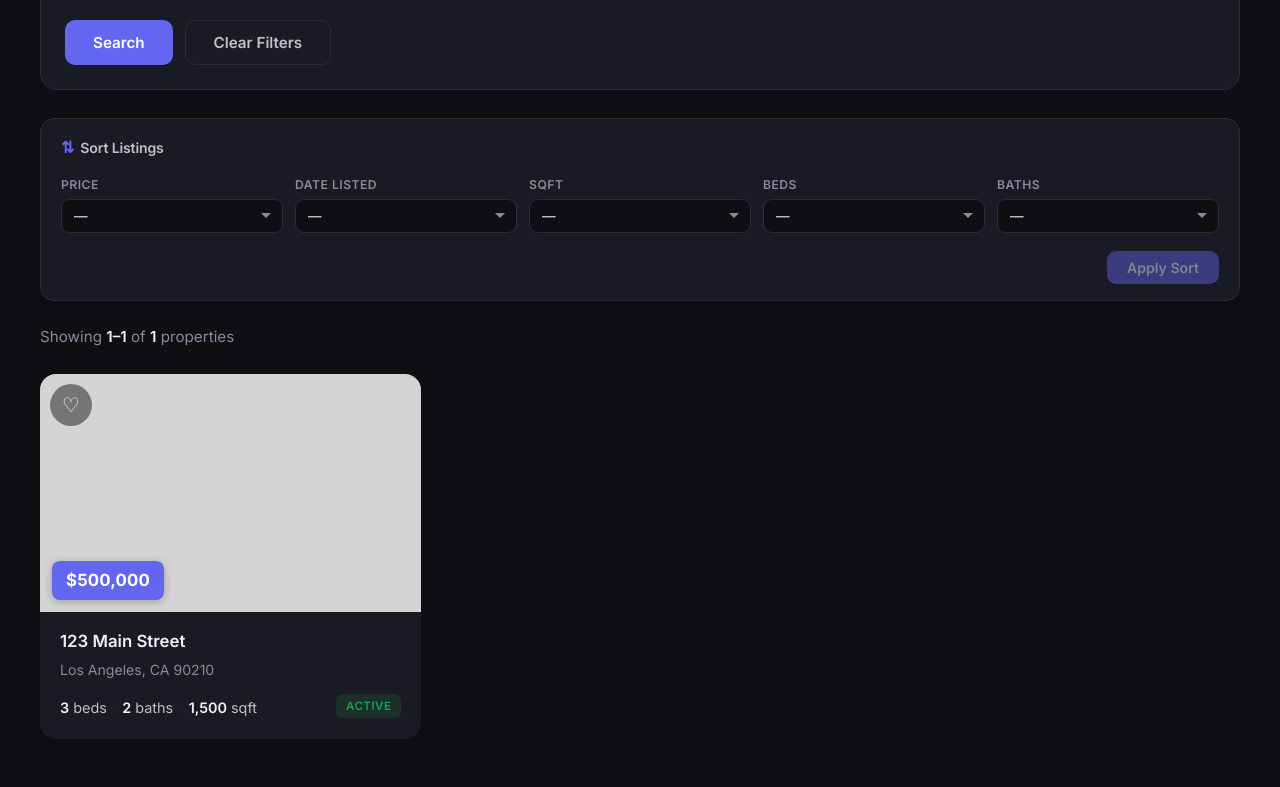
Test: Heart Favorite Component Across Pages › ListingsPage › renders favorite heart button on property cards and updates favorite state on click
(page scrolled)
Click the button named "add to favorites" at (71, 405), box [50,384,92,426]
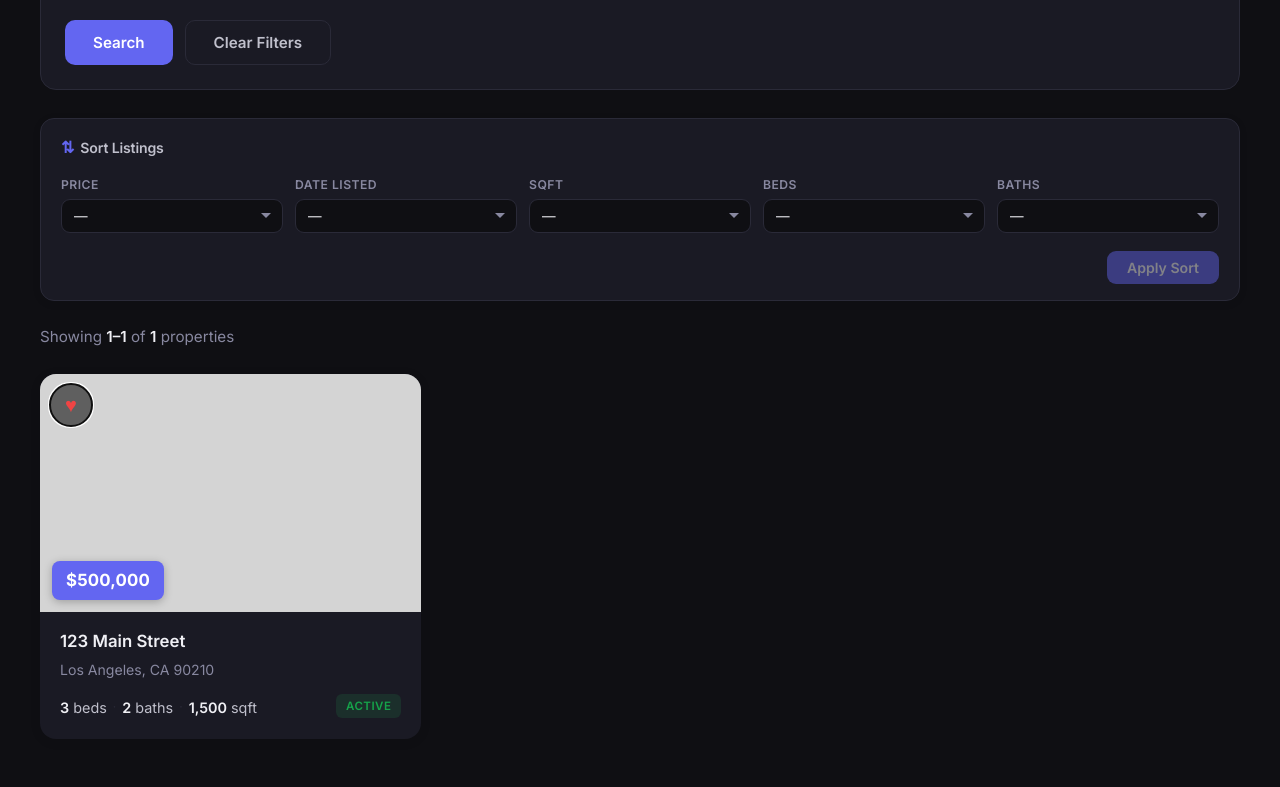
Now the button named "remove from favorites" is shown, box [50,384,92,426]
